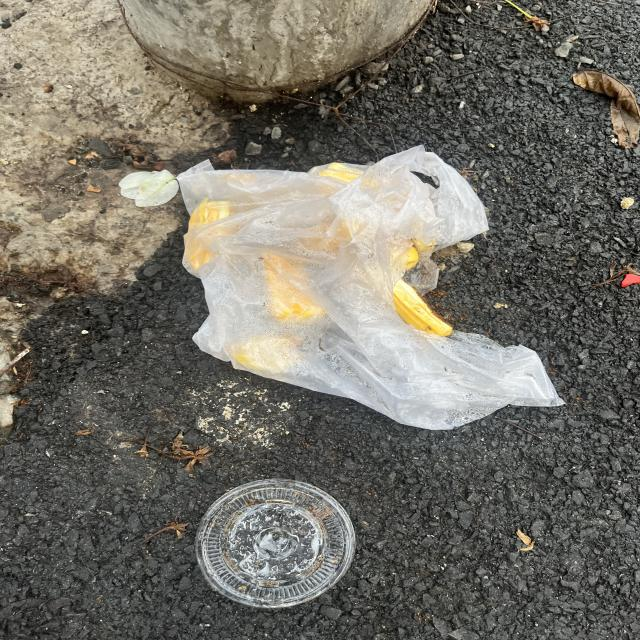lid: (193, 476, 360, 610)
trash bag: (174, 141, 570, 433)
